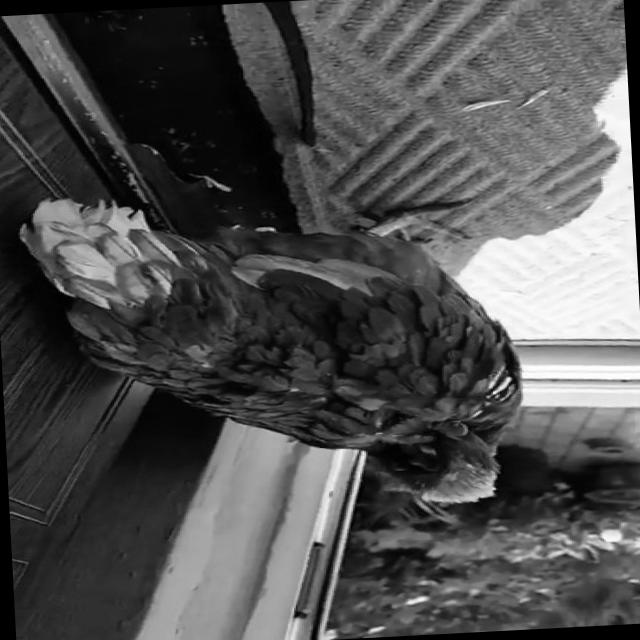self preening: (8, 163, 544, 550)
